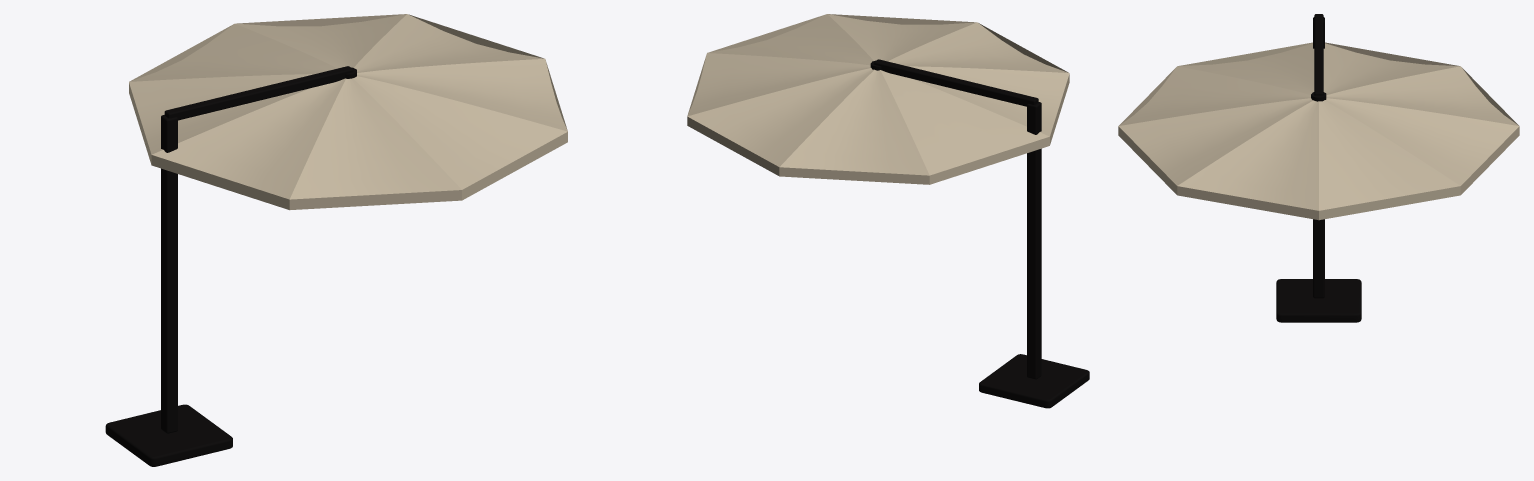
File: cantilever-umbrella-lod1.glb
3 views of the same model, side by side, from view 1: azimuth 30°, elevation 25°; view 2: azimuth 150°, elevation 25°; view 3: azimuth 270°, elevation 25° (orthographic). The views are drawn at different scales.
Visible parts, largest first — view 1: Natural canvas canopy, Powder-coated bronze aluminium; view 2: Natural canvas canopy, Powder-coated bronze aluminium; view 3: Natural canvas canopy, Powder-coated bronze aluminium.
Boxes of the visible parts, left/top/right/bottom form: Natural canvas canopy: left=129, top=14, right=567, bottom=210; Powder-coated bronze aluminium: left=105, top=66, right=356, bottom=466; Natural canvas canopy: left=687, top=14, right=1069, bottom=184; Powder-coated bronze aluminium: left=870, top=59, right=1089, bottom=408; Natural canvas canopy: left=1118, top=42, right=1519, bottom=220; Powder-coated bronze aluminium: left=1276, top=14, right=1361, bottom=322.
Bounding box in the file's own units: 3.56 × 2.68 × 3.35.
